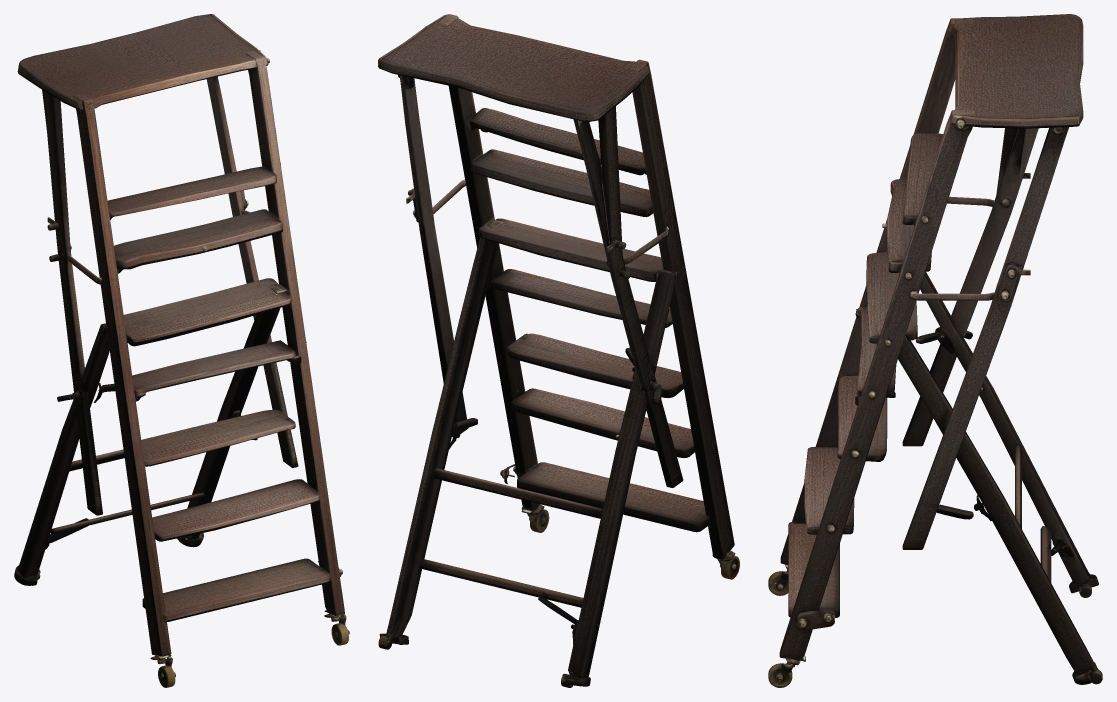
Rendered from library-ladder.glb.
The picture shows the model from 3 angles, left to right: view 1: azimuth 30°, elevation 25°; view 2: azimuth 150°, elevation 25°; view 3: azimuth 270°, elevation 25°; orthographic projection. The views are drawn at different scales.
Visible parts, largest first — view 1: acf791d5_e3aa_4e6f_be92_f9f332e759d6; view 2: acf791d5_e3aa_4e6f_be92_f9f332e759d6; view 3: acf791d5_e3aa_4e6f_be92_f9f332e759d6.
Boxes of the visible parts, bbox=[...] form: acf791d5_e3aa_4e6f_be92_f9f332e759d6: bbox=[14, 14, 349, 687]; acf791d5_e3aa_4e6f_be92_f9f332e759d6: bbox=[378, 14, 739, 687]; acf791d5_e3aa_4e6f_be92_f9f332e759d6: bbox=[768, 14, 1102, 687].
Bounding box in the file's own units: 0.4165 × 0.9995 × 0.5278.
1 material, 1 textured.
